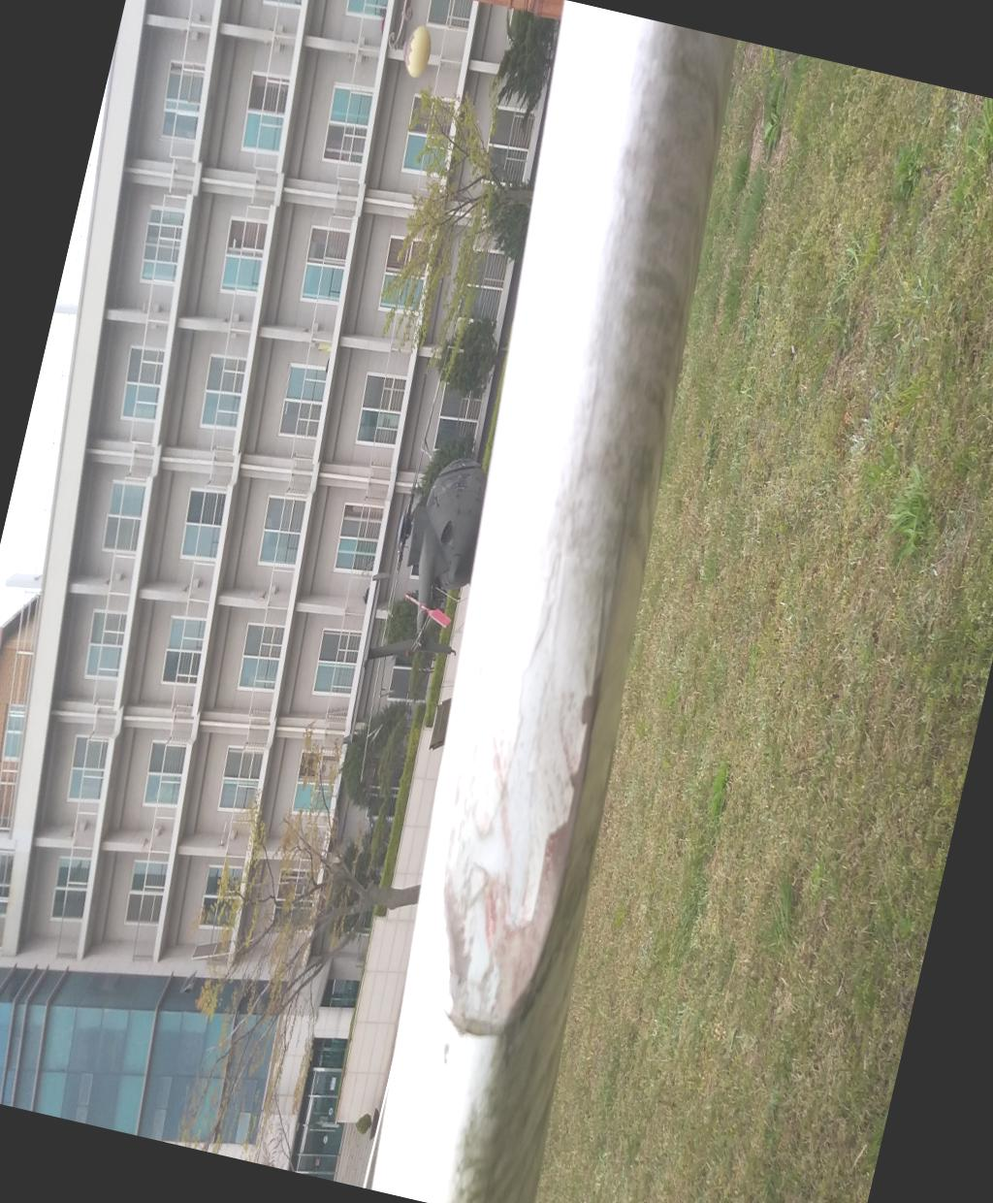corrosion: (418, 0, 619, 157)
